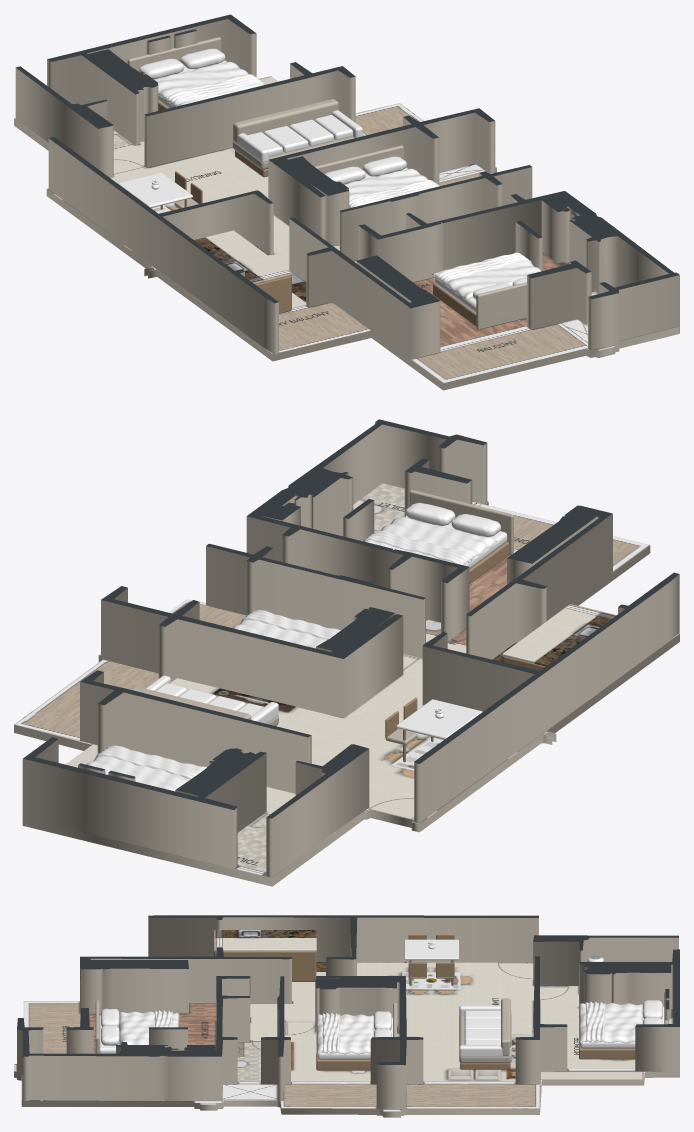
The picture shows the model from 3 angles, top to bottom: view 1: azimuth 30°, elevation 25°; view 2: azimuth 150°, elevation 25°; view 3: azimuth 270°, elevation 25°; orthographic projection. The views are drawn at different scales.
Parts seen in each view (by area): view 1: Partition walls, Apartment floor, Stone worktop, Draped bed linen, Upholstered headboard.002, Sofa back, Draped bed linen.004, Marble dining top, Draped bed linen.002, Draped bed linen.001, Draped bed linen.005, Upholstered headboard (+10 smaller); view 2: Partition walls, Apartment floor, Stone worktop, Draped bed linen.004, Marble dining top, Draped bed linen, Upholstered headboard.002, Draped bed linen.001, Draped bed linen.005, Draped bed linen.002, Draped bed linen.003, Tailored pillow.005 (+1 smaller); view 3: Partition walls, Apartment floor, Stone worktop, Draped bed linen, Draped bed linen.002, Kitchen cabinets, Draped bed linen.004, Marble dining top, Draped bed linen.001, Walnut upholstered base, Draped bed linen.003, Walnut upholstered base.001 (+13 smaller).
Part boxes in pixels (left/top/right/bottom): Partition walls: left=15, top=14, right=679, bottom=359; Apartment floor: left=14, top=76, right=679, bottom=390; Stone worktop: left=194, top=230, right=292, bottom=284; Draped bed linen: left=154, top=61, right=264, bottom=106; Upholstered headboard.002: left=476, top=282, right=526, bottom=329; Sofa back: left=233, top=99, right=338, bottom=142; Draped bed linen.004: left=431, top=256, right=541, bottom=299; Marble dining top: left=118, top=172, right=192, bottom=207; Draped bed linen.002: left=344, top=168, right=428, bottom=207; Draped bed linen.001: left=165, top=74, right=265, bottom=106; Draped bed linen.005: left=435, top=252, right=531, bottom=284; Upholstered headboard: left=127, top=37, right=221, bottom=71; Partition walls: left=22, top=419, right=679, bottom=877; Apartment floor: left=14, top=483, right=679, bottom=886; Stone worktop: left=502, top=604, right=616, bottom=666; Draped bed linen.004: left=365, top=517, right=496, bottom=565; Marble dining top: left=396, top=699, right=482, bottom=739; Draped bed linen: left=86, top=746, right=206, bottom=791; Upholstered headboard.002: left=409, top=490, right=513, bottom=555; Draped bed linen.001: left=95, top=745, right=205, bottom=779; Draped bed linen.005: left=363, top=531, right=473, bottom=565; Draped bed linen.002: left=232, top=611, right=340, bottom=648; Draped bed linen.003: left=241, top=610, right=339, bottom=639; Tailored pillow.005: left=405, top=502, right=455, bottom=526; Partition walls: left=17, top=915, right=679, bottom=1109; Apartment floor: left=14, top=962, right=679, bottom=1117; Stone worktop: left=214, top=930, right=316, bottom=951; Draped bed linen: left=579, top=1003, right=643, bottom=1043; Draped bed linen.002: left=316, top=1014, right=374, bottom=1054; Kitchen cabinets: left=214, top=951, right=316, bottom=981; Draped bed linen.004: left=119, top=1011, right=179, bottom=1044; Marble dining top: left=404, top=939, right=458, bottom=960; Draped bed linen.001: left=585, top=1001, right=605, bottom=1042; Walnut upholstered base: left=579, top=1043, right=635, bottom=1059; Draped bed linen.003: left=322, top=1013, right=340, bottom=1053; Walnut upholstered base.001: left=316, top=1054, right=370, bottom=1070.
Bounding box in the file's own units: 8.59 × 1.3 × 15.53.
10 materials, 1 textured.
